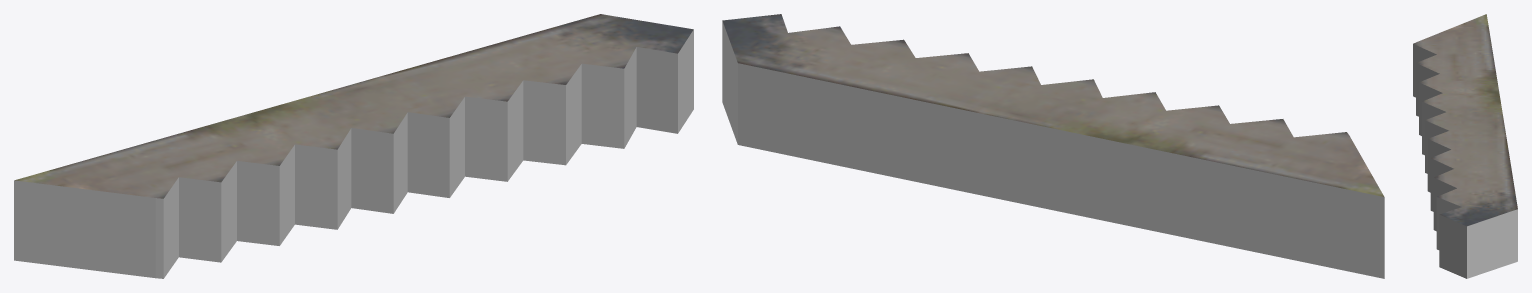
Rendered from DEBW_0010007Txiz.gltf.
3 renders of one model, left to right at view 1: azimuth 30°, elevation 25°; view 2: azimuth 150°, elevation 25°; view 3: azimuth 270°, elevation 25°, orthographic. The views are drawn at different scales.
Parts seen in each view (by area): view 1: Z_UP; view 2: Z_UP; view 3: Z_UP.
Part boxes in pixels (<box>): Z_UP: <box>14,14,693,278</box>; Z_UP: <box>722,14,1384,278</box>; Z_UP: <box>1413,14,1517,278</box>.
Bounding box in the file's own units: 39.23 × 4.53 × 8.19.
2 materials, 1 textured.
